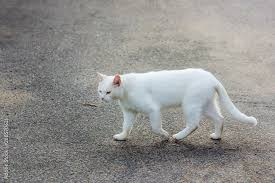cat: (95, 68, 259, 142)
